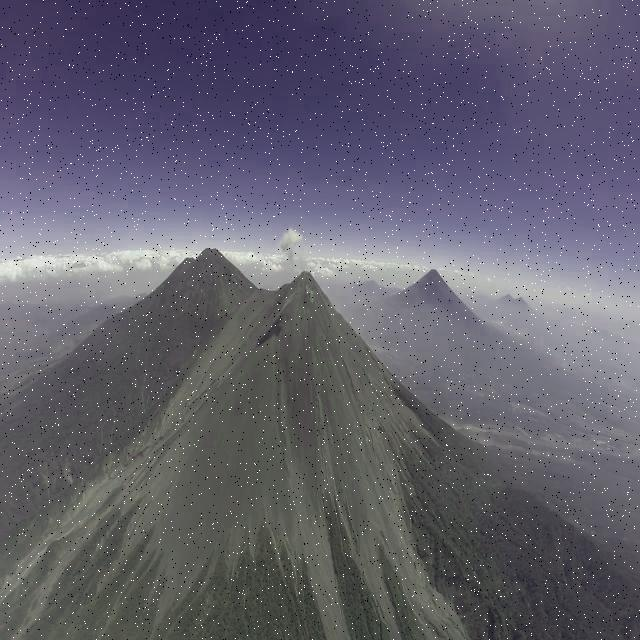Plume: (282, 225, 304, 255)
Summit: (285, 270, 320, 290)
